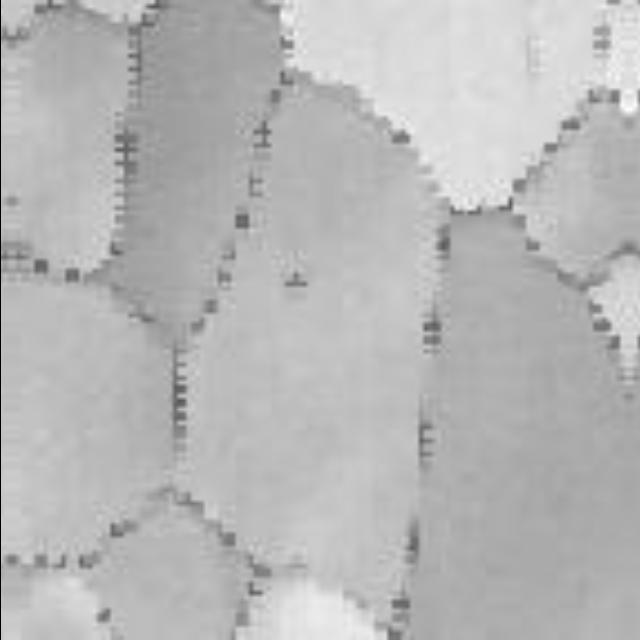good_void: (283, 268, 311, 290)
